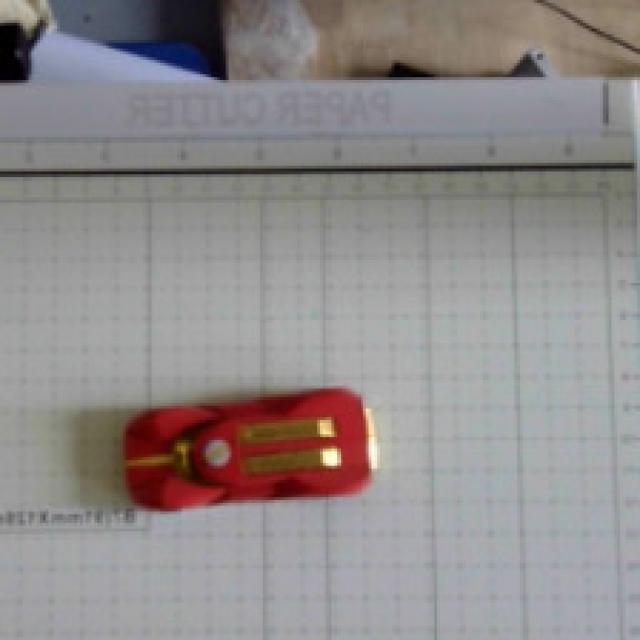Red Car: (89, 356, 426, 546)
